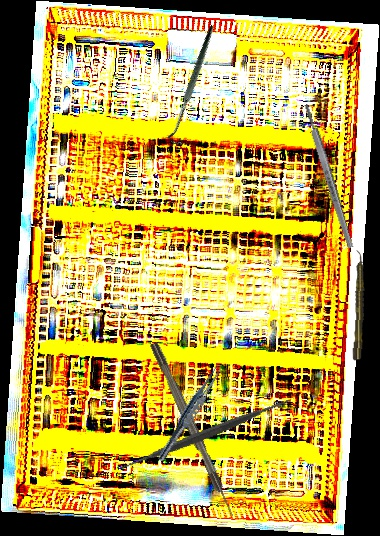Handpiece: (352, 249, 366, 362)
Hook Surgical: (131, 24, 258, 150), (149, 341, 237, 519)
Scalpel Handle: (302, 102, 355, 250)
Spatula Surgical: (109, 338, 301, 530)
Tissue Forceps: (155, 358, 227, 466)
